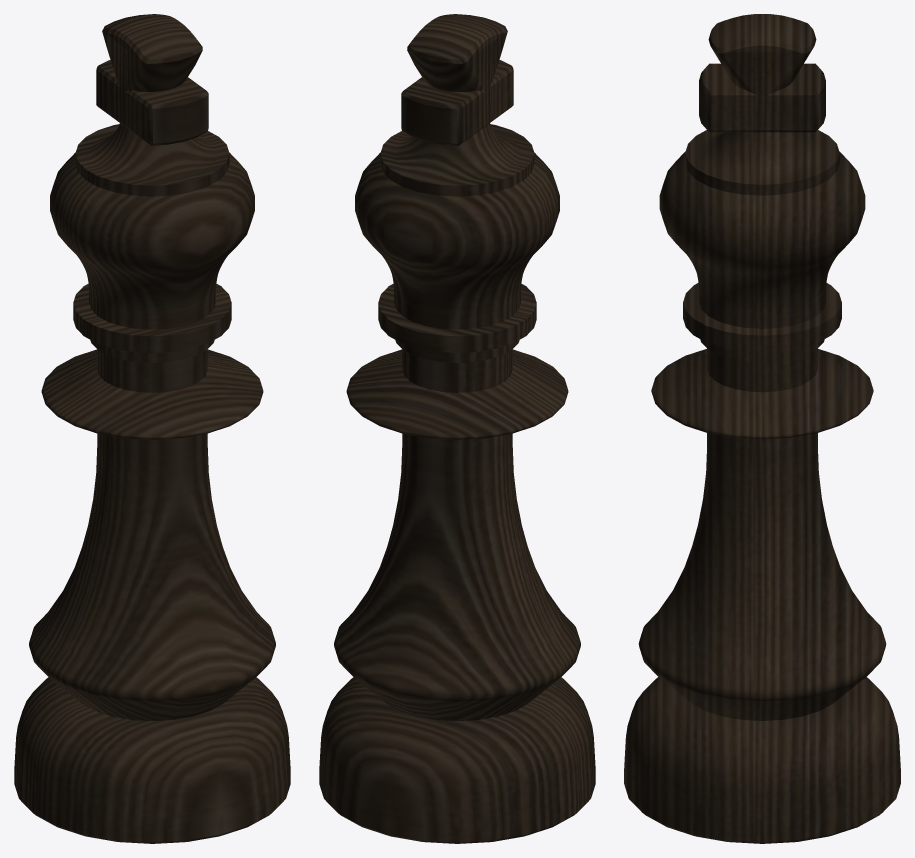
The model's file is black_king.gltf.
3 renders of one model, left to right at view 1: azimuth 30°, elevation 25°; view 2: azimuth 150°, elevation 25°; view 3: azimuth 270°, elevation 25°, orthographic.
Visible parts, largest first — view 1: Material2076, Material2077, Material2075, Material2079, Material2078; view 2: Material2076, Material2077, Material2075, Material2079, Material2078; view 3: Material2076, Material2077, Material2075, Material2079, Material2078.
Boxes of the visible parts, x1,y1,x2,y2 form: Material2076: (14, 349, 290, 843); Material2077: (50, 124, 254, 329); Material2075: (89, 14, 215, 179); Material2079: (73, 283, 231, 352); Material2078: (90, 340, 214, 362); Material2076: (319, 349, 595, 843); Material2077: (355, 124, 559, 329); Material2075: (394, 14, 520, 179); Material2079: (378, 283, 536, 352); Material2078: (395, 340, 519, 362); Material2076: (624, 348, 900, 843); Material2077: (659, 130, 865, 328); Material2075: (699, 14, 825, 178); Material2079: (683, 283, 841, 352); Material2078: (700, 339, 824, 362).
Bounding box in the file's own units: 0.2097 × 0.6379 × 0.2097.
Materials: 1 (1 with a texture image).
